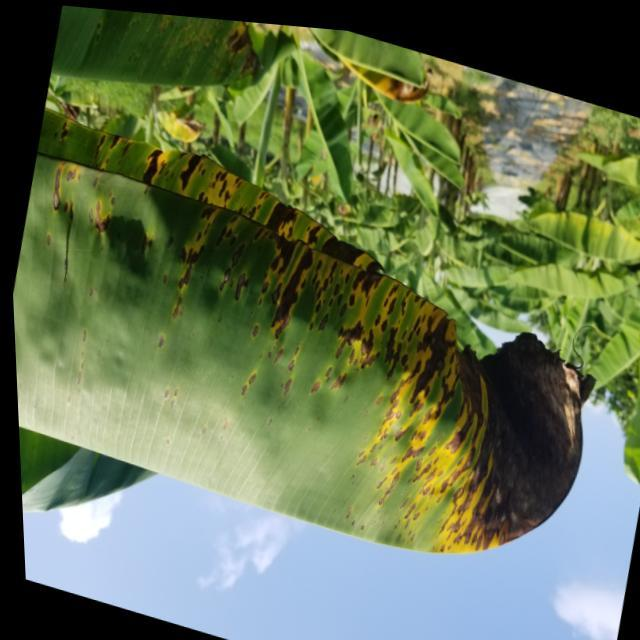Early_rust: (0, 8, 599, 548)
